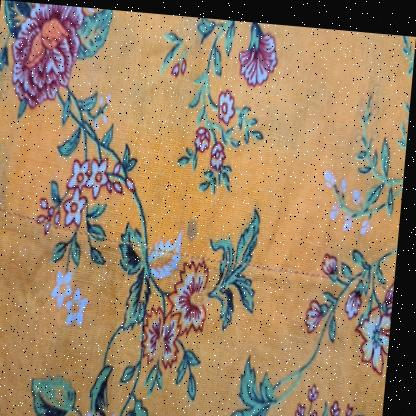spot: (186, 208, 208, 245)
